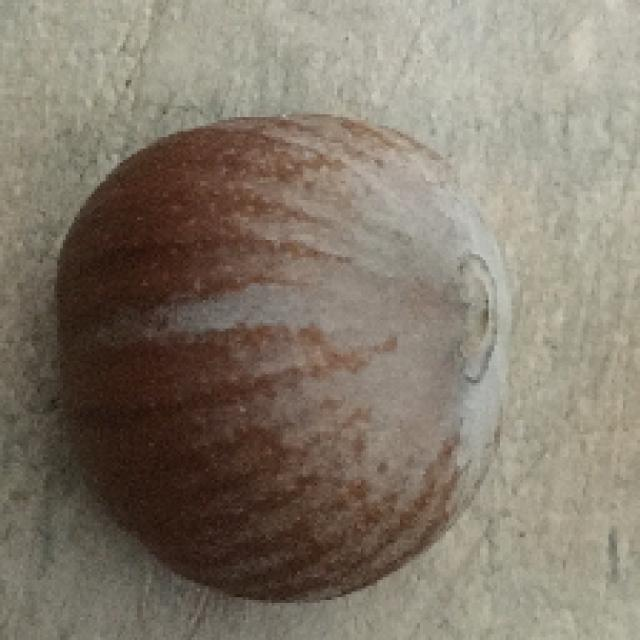qualityHazelnut: (48, 106, 519, 601)
